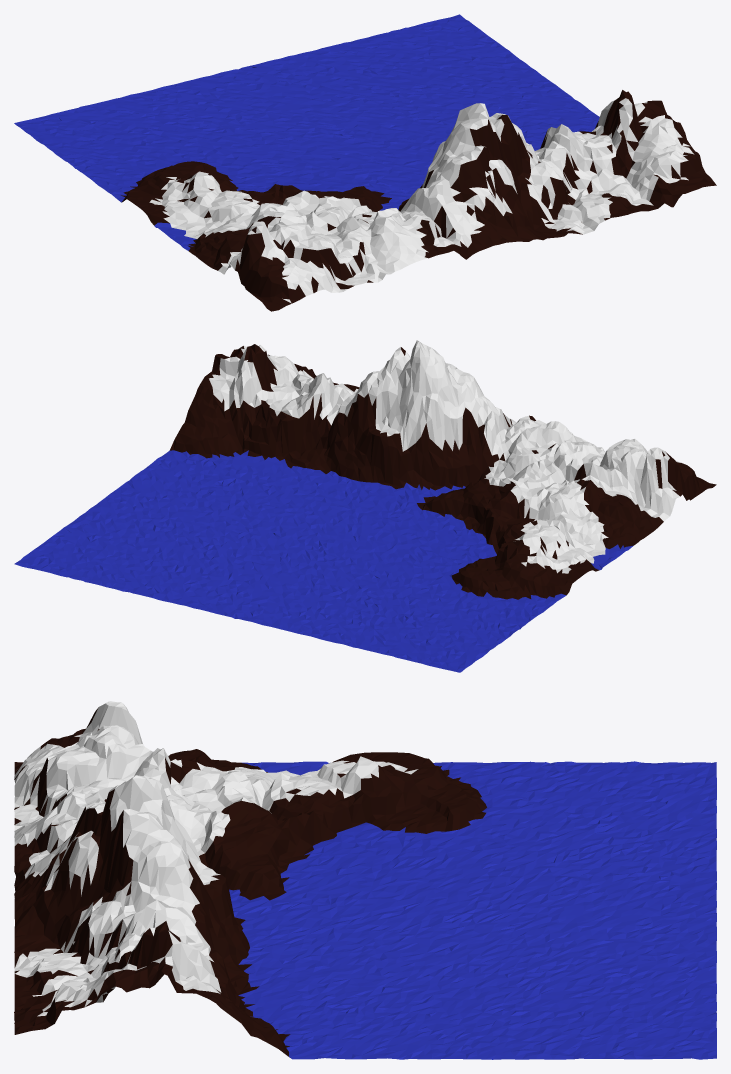
The model's file is seventh.fbx.
3 views of the same model, one above another, from view 1: azimuth 30°, elevation 25°; view 2: azimuth 150°, elevation 25°; view 3: azimuth 270°, elevation 25° (orthographic). The views are drawn at different scales.
Parts seen in each view (by area): view 1: seventh; view 2: seventh; view 3: seventh.
Part boxes in pixels (x1,y1,x2,y2): seventh: (14,14,716,311); seventh: (14,340,716,672); seventh: (14,701,716,1059).
Size of the model in its own units: 50099 by 12371 by 50059.
